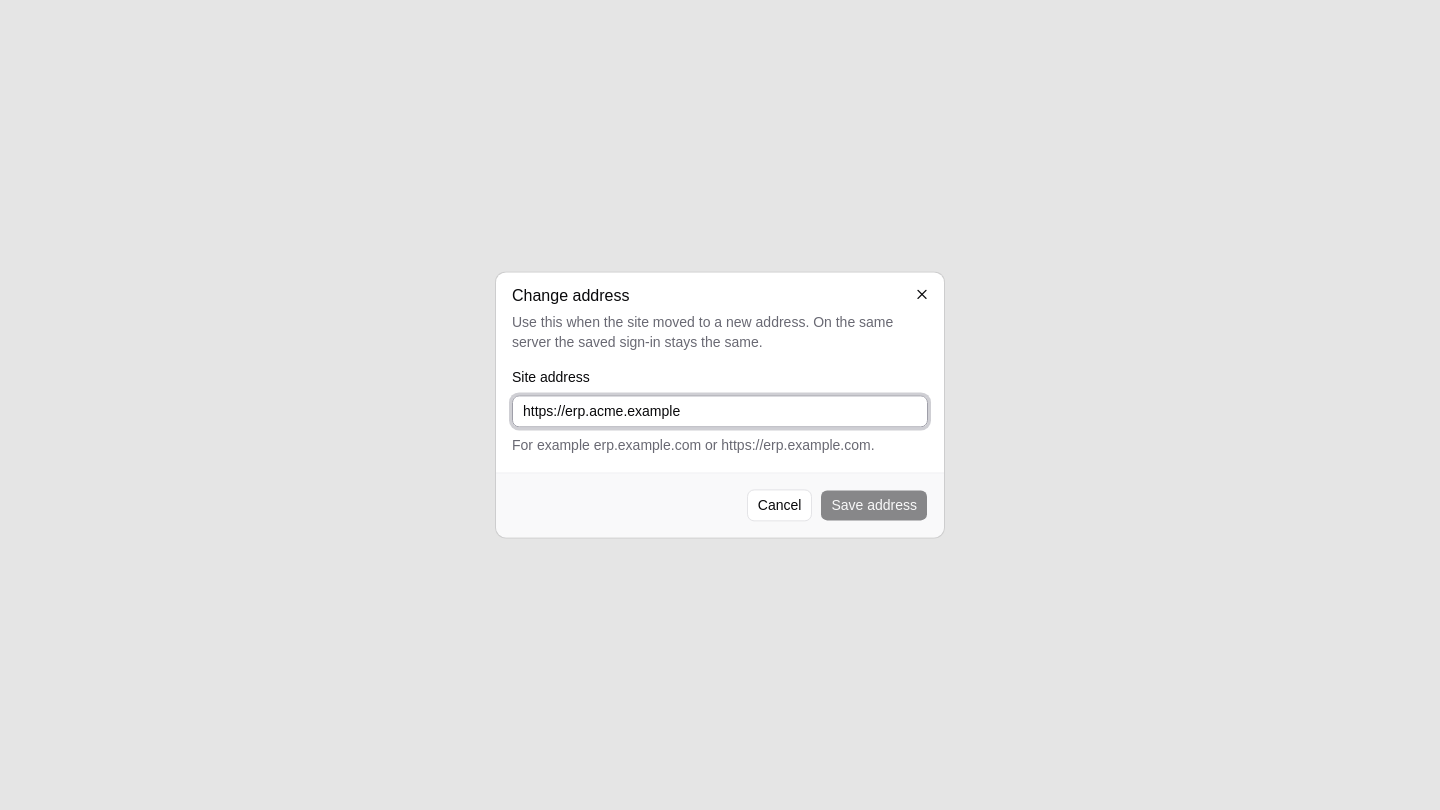
Test case: change address › asks for username and password on a password site, and shows the fields on site.newServer
Replace the text in the field labelled "Site address" with "https://other.example" at (720, 412), box left=512, top=396, right=928, bottom=428
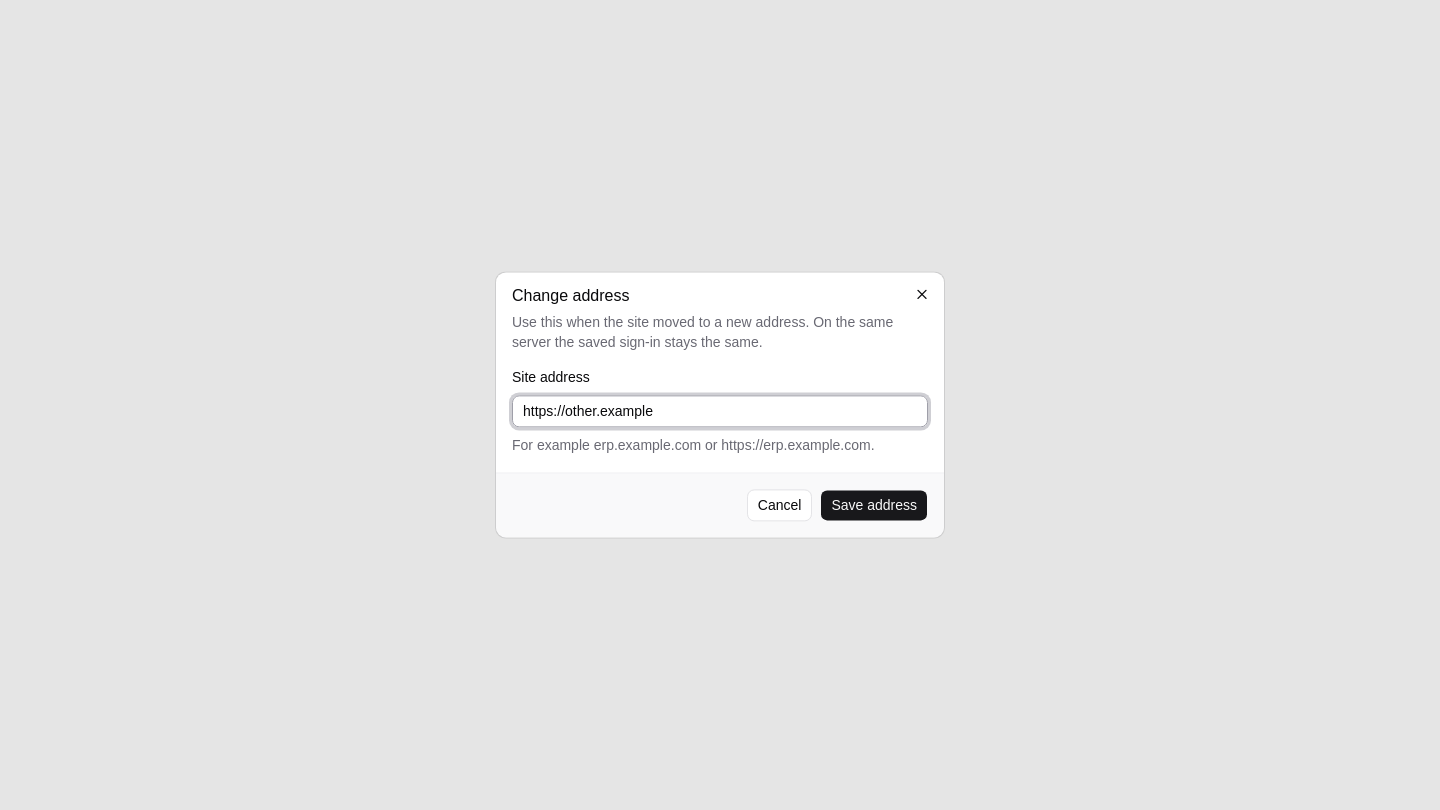
Click the button "Save address".
click(874, 506)  # box left=820, top=490, right=928, bottom=522
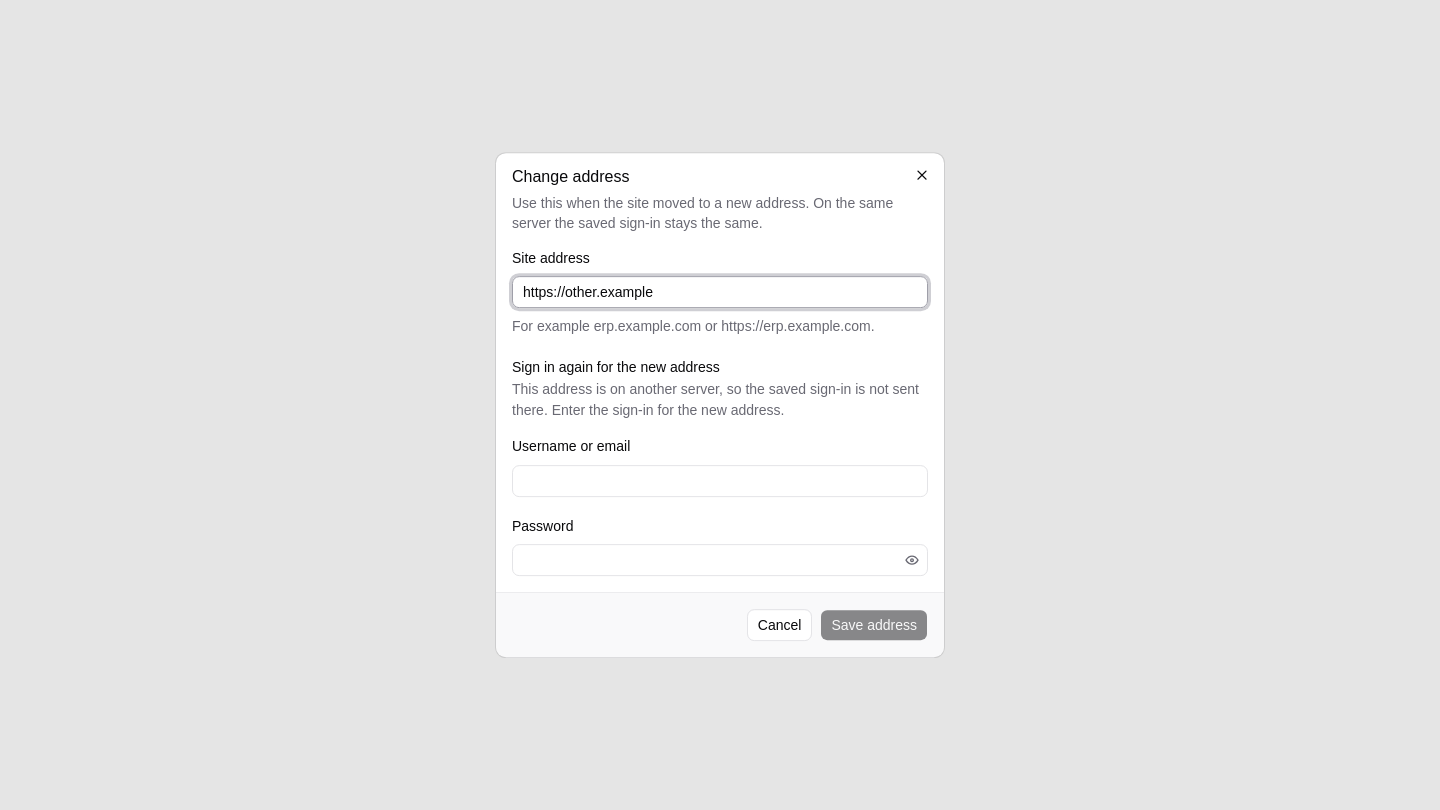
Result: the field labelled "Username or email" is shown at left=512, top=465, right=928, bottom=497
Result: the password field labelled "Password" is shown at left=513, top=544, right=900, bottom=576
